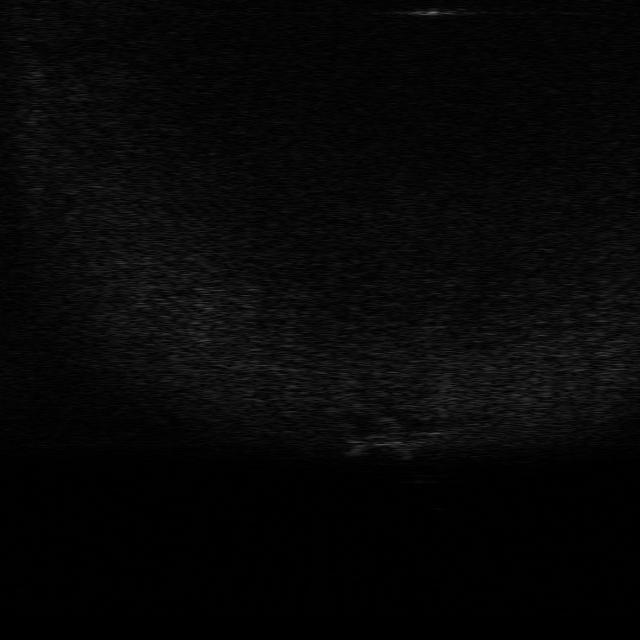plane: (345, 414, 453, 459)
